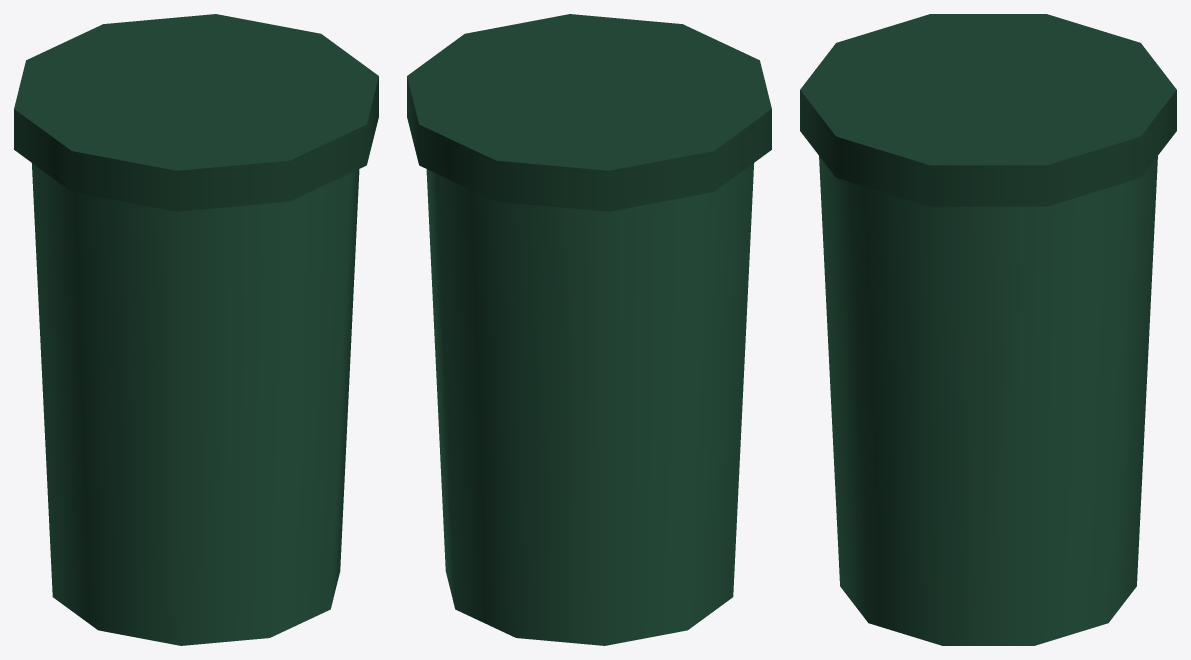
Rendered from trash.glb.
3 views of the same model, side by side, from view 1: azimuth 30°, elevation 25°; view 2: azimuth 150°, elevation 25°; view 3: azimuth 270°, elevation 25° (orthographic).
Parts seen in each view (by area): view 1: body; view 2: body; view 3: body.
Part boxes in pixels (x1,y1,x2,y2): body: [14, 14, 378, 645]; body: [407, 14, 771, 645]; body: [800, 14, 1176, 645].
Size of what is drawn, in the model's own units: 0.6277 by 0.96 by 0.66.
